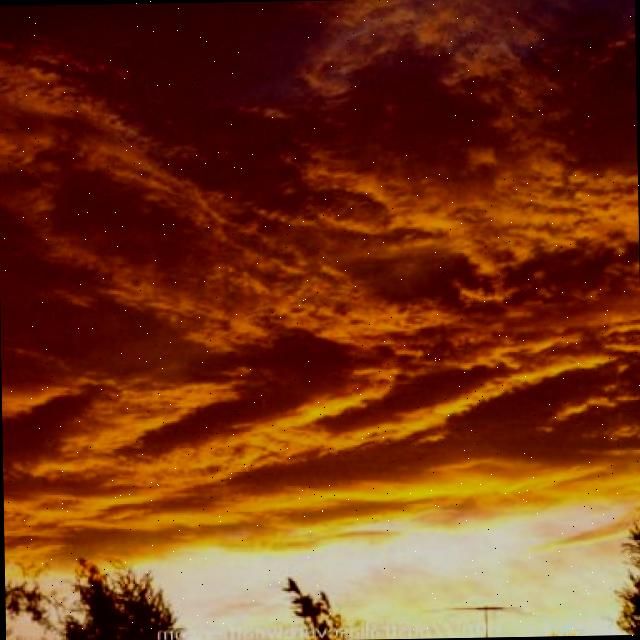As: (1, 47, 640, 398)
